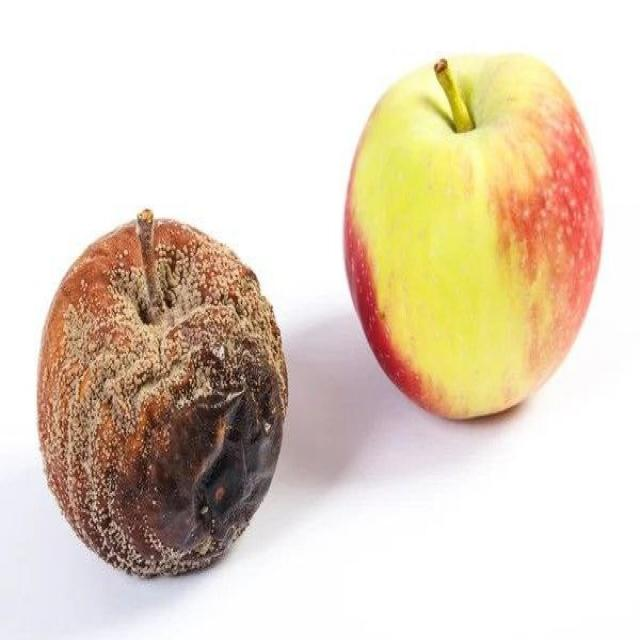fresh_apple: (348, 52, 602, 423)
rotten_apple: (36, 224, 287, 578)
